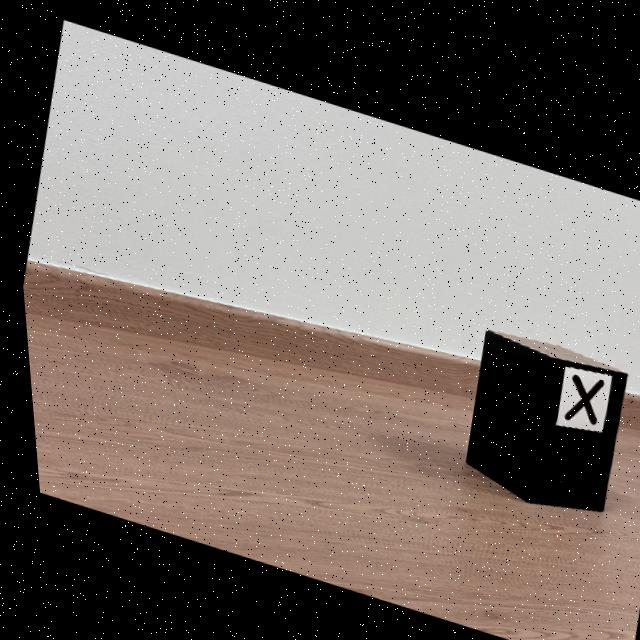X: (558, 364, 598, 414)
